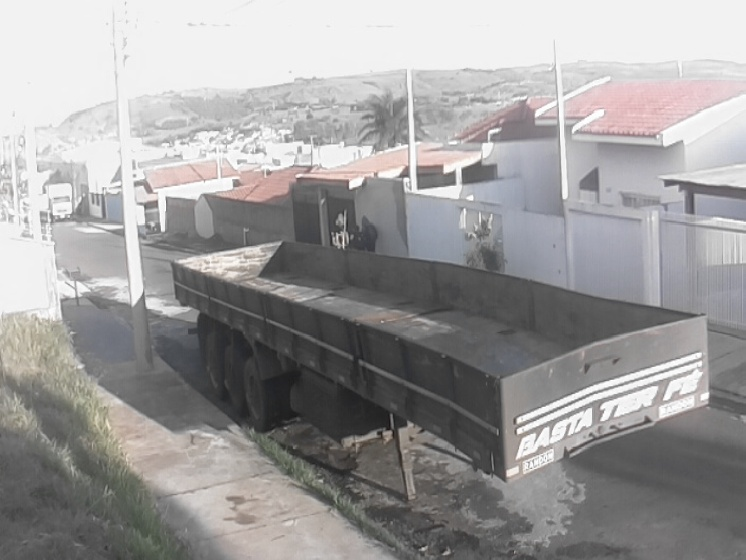person: (361, 214, 383, 251), (347, 223, 362, 247)
